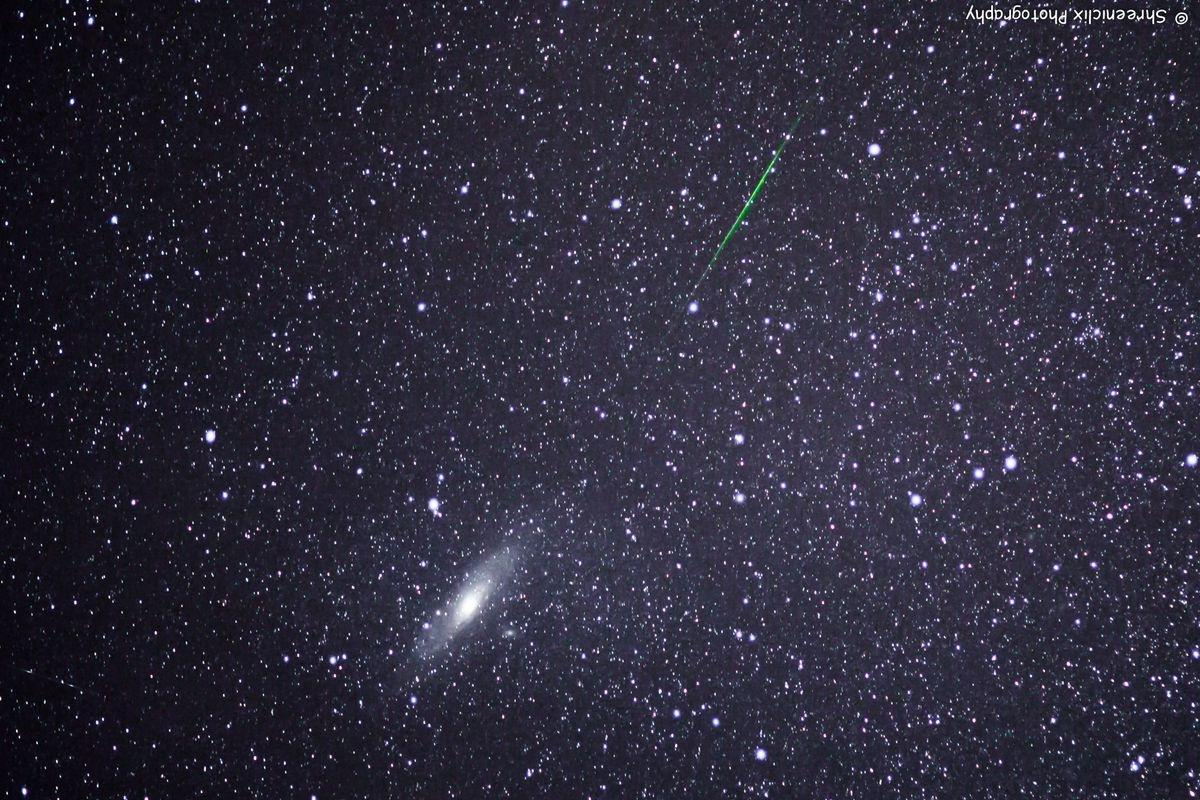meteorite: (669, 79, 839, 336)
